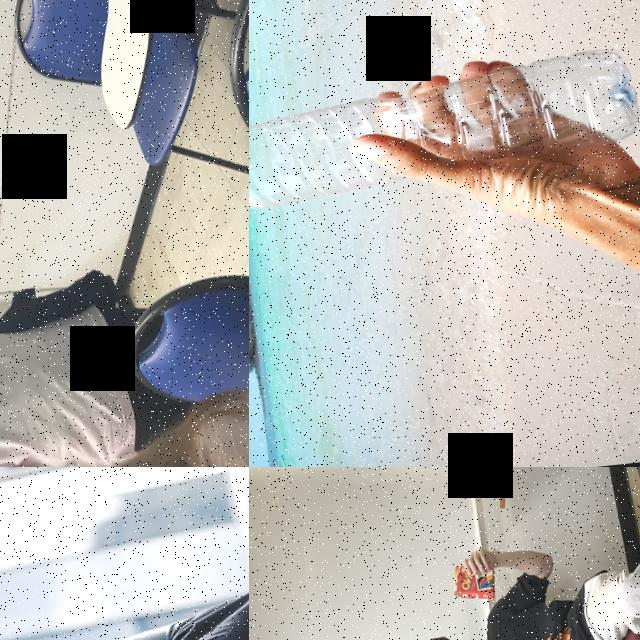bottle: (249, 42, 640, 219)
